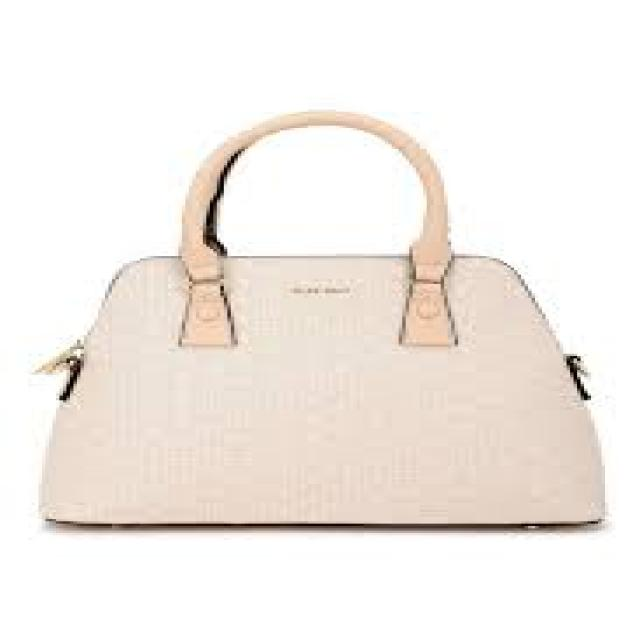handbag: (31, 107, 608, 528)
